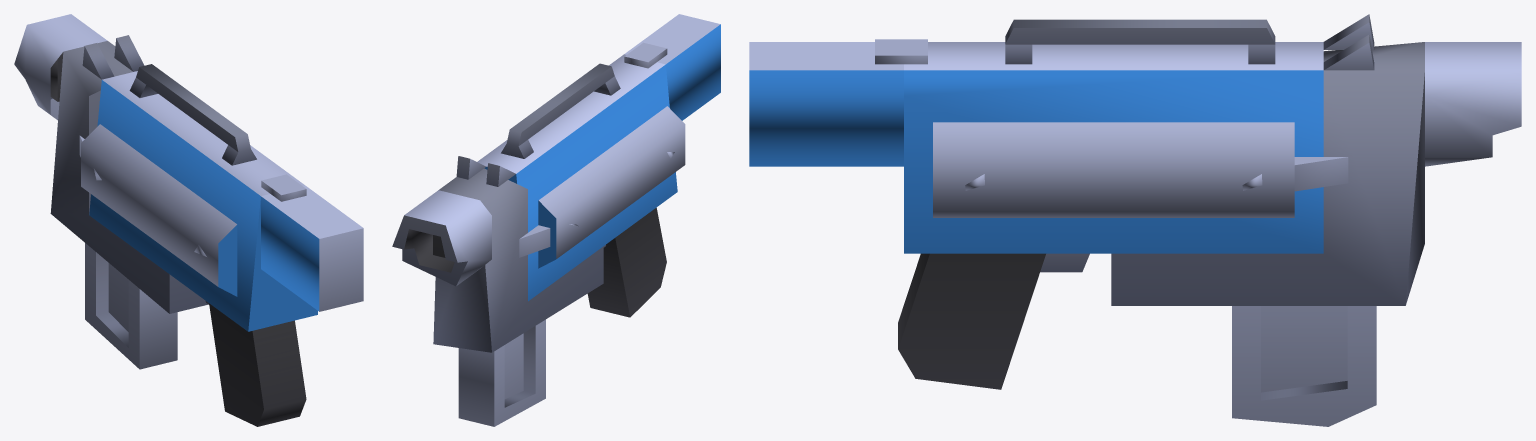
Rendered from cc0-blaster-lod1.glb.
3 views of the same model, side by side, from view 1: azimuth 30°, elevation 25°; view 2: azimuth 150°, elevation 25°; view 3: azimuth 270°, elevation 25° (orthographic). The views are drawn at different scales.
Visible parts, largest first — view 1: part_0; view 2: part_0; view 3: part_0.
Boxes of the visible parts, box(x1,y1,x2,y2) form: part_0: box(14, 14, 363, 426); part_0: box(392, 14, 720, 426); part_0: box(749, 14, 1521, 426).
Bounding box in the file's own units: 0.1838 × 0.447 × 0.8.
Materials: 1 (1 with a texture image).
